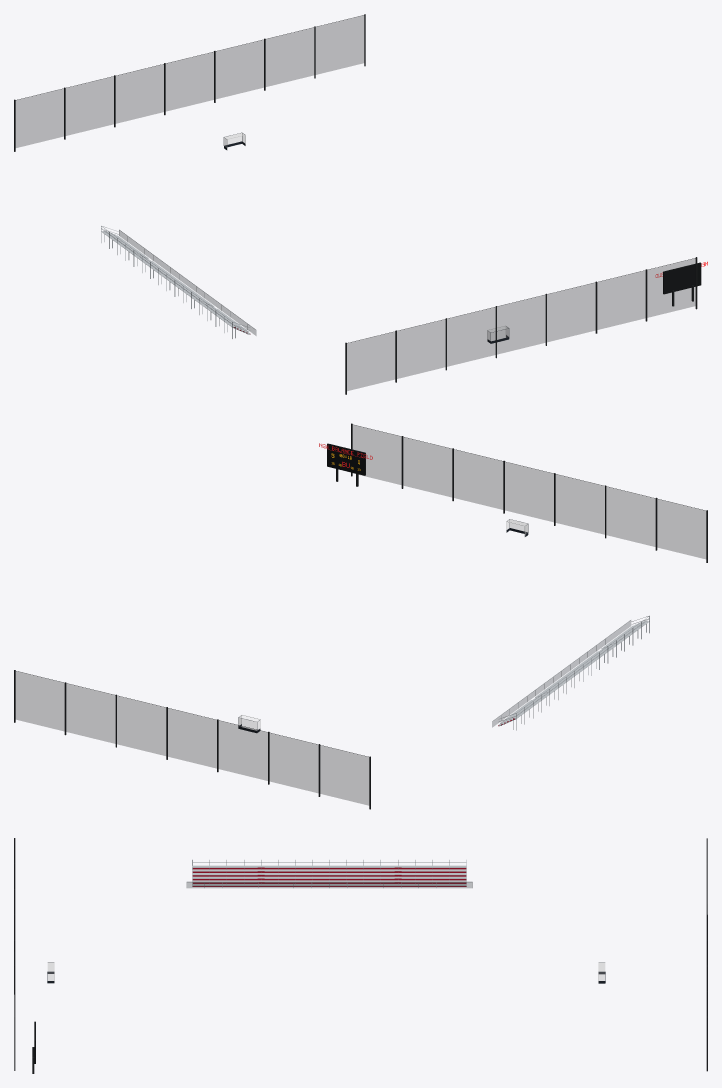
Rendered from field-props-new-balance.glb.
The picture shows the model from 3 angles, top to bottom: view 1: azimuth 30°, elevation 25°; view 2: azimuth 150°, elevation 25°; view 3: azimuth 270°, elevation 25°; orthographic projection. The views are drawn at different scales.
Parts seen in each view (by area): view 1: field-props-new-balance; view 2: field-props-new-balance; view 3: field-props-new-balance.
Part boxes in pixels (bbox=[...]): field-props-new-balance: bbox=[14, 14, 707, 394]; field-props-new-balance: bbox=[14, 423, 707, 809]; field-props-new-balance: bbox=[14, 838, 707, 1073].
Bounding box in the file's own units: 81.11 × 10.03 × 117.
